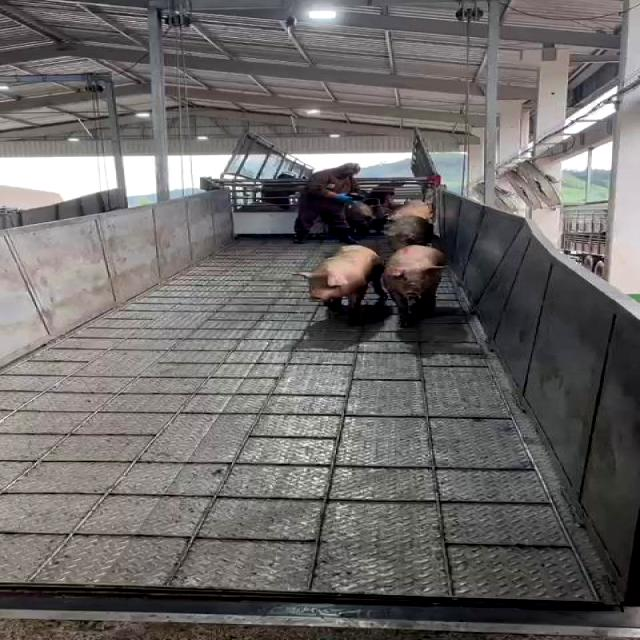pig: (298, 245, 383, 322), (382, 245, 446, 325)
